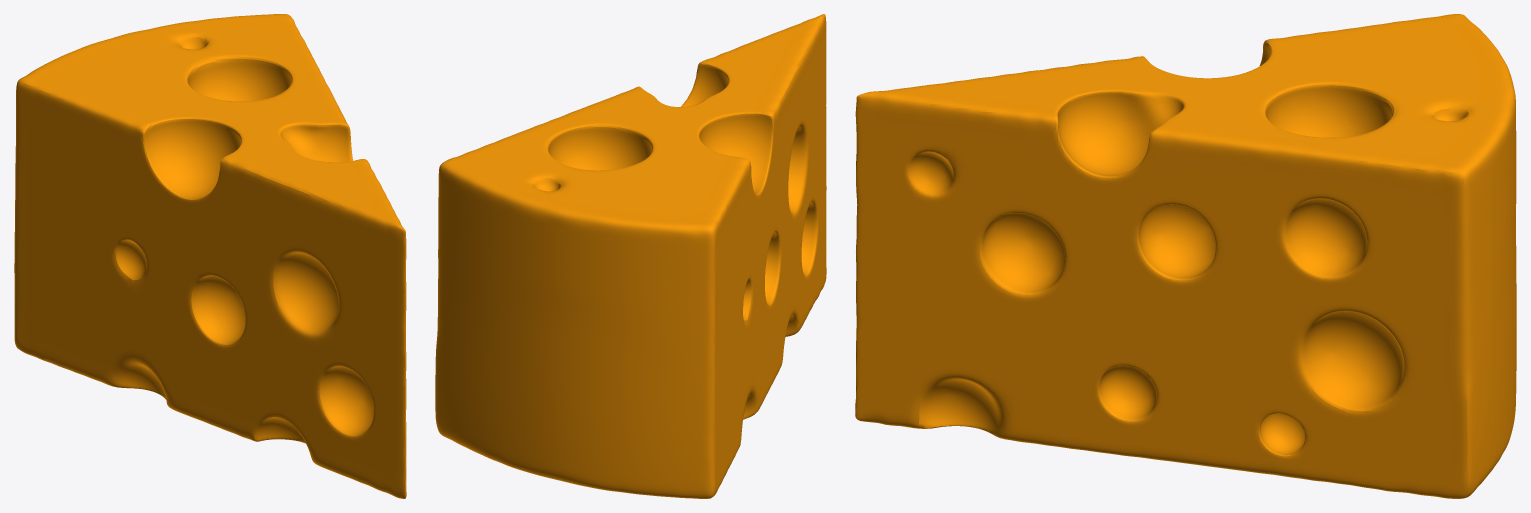
File: Cheese.fbx
3 renders of one model, left to right at view 1: azimuth 30°, elevation 25°; view 2: azimuth 150°, elevation 25°; view 3: azimuth 270°, elevation 25°, orthographic. The views are drawn at different scales.
Visible parts, largest first — view 1: Group57774; view 2: Group57774; view 3: Group57774.
Boxes of the visible parts, box(x1,y1,x2,y2) form: Group57774: box(14, 14, 406, 498); Group57774: box(435, 14, 826, 498); Group57774: box(855, 14, 1516, 498).
Bounding box in the file's own units: 1.16 × 1.1 × 1.99.
